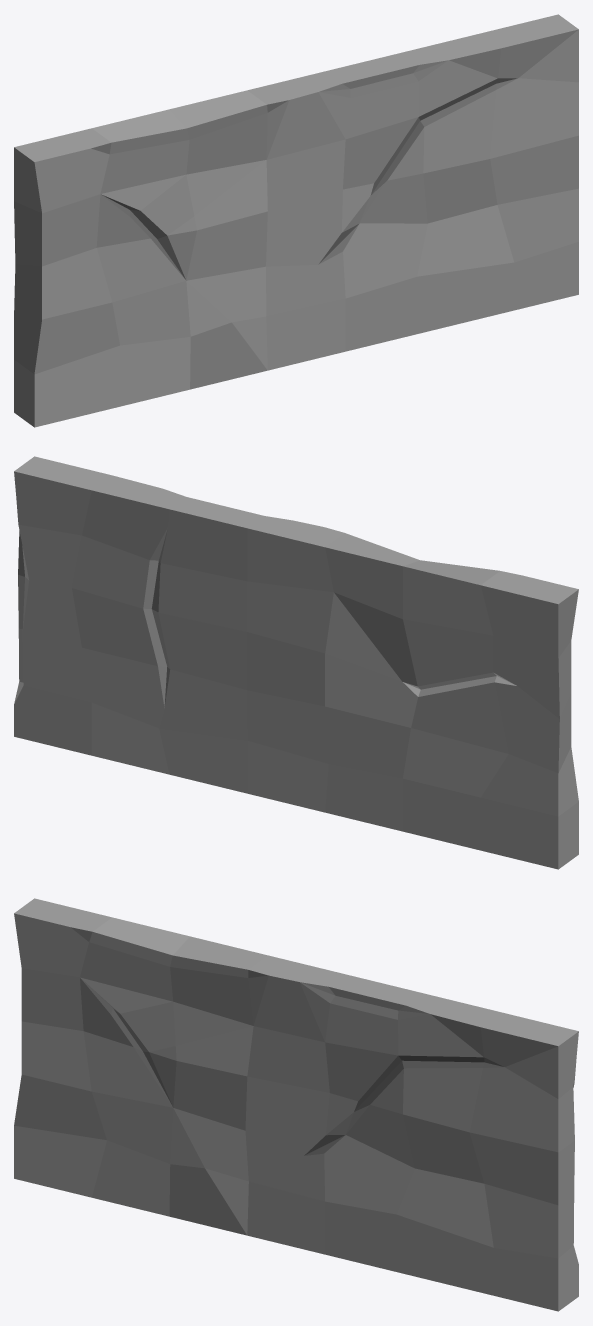
File: Fixed Mesh 1.fbx
The picture shows the model from 3 angles, top to bottom: view 1: azimuth 30°, elevation 25°; view 2: azimuth 150°, elevation 25°; view 3: azimuth 330°, elevation 25°; orthographic projection.
Parts seen in each view (by area): view 1: Cube.004; view 2: Cube.004; view 3: Cube.004.
Boxes of the visible parts, <box> form: Cube.004: <box>14,14,578,427</box>; Cube.004: <box>14,456,578,869</box>; Cube.004: <box>14,898,578,1311</box>.
Size of the model in its own units: 920 by 428 by 69.19.
